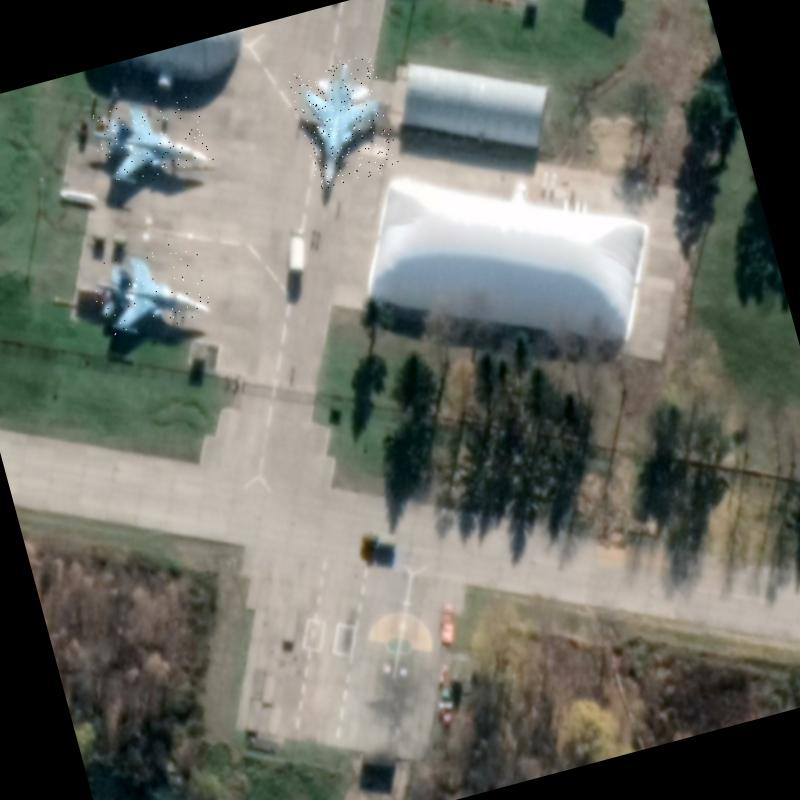A19: (286, 52, 401, 190), (86, 237, 214, 344), (86, 86, 214, 192)
